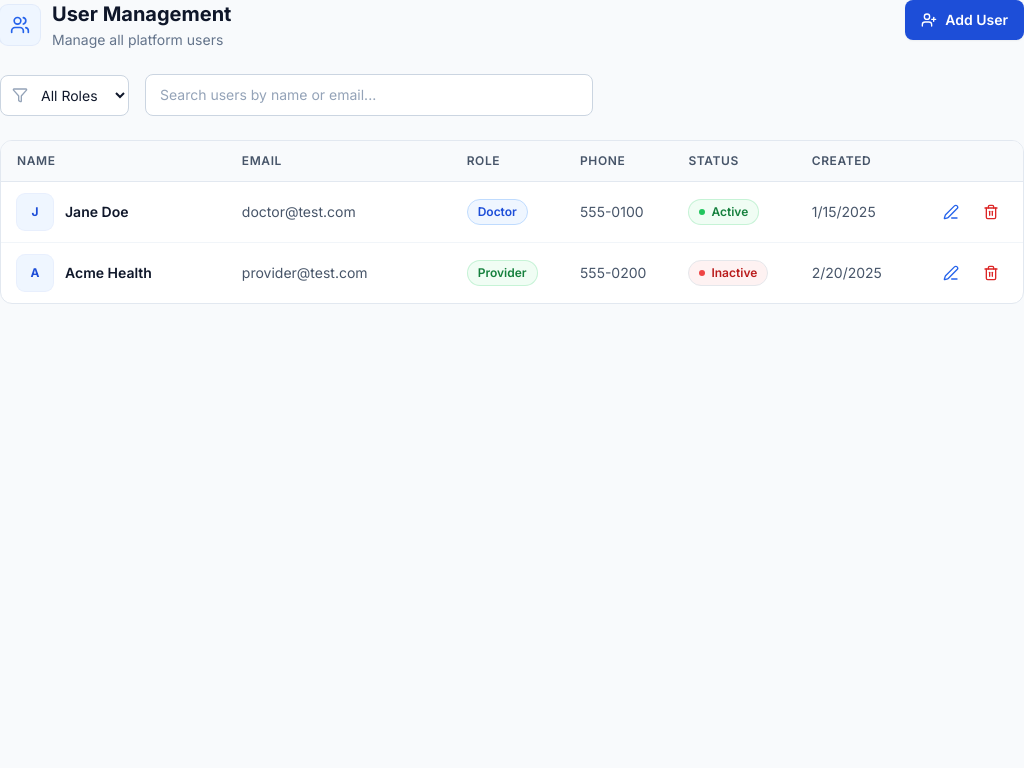
Scenario: UserManagement › opens delete confirmation dialog
Expected: the text "Jane Doe" is shown, [65,202,128,222]
Click the button named "Delete user" in the row of "Jane Doe": (991, 212) [975,196,1007,228]
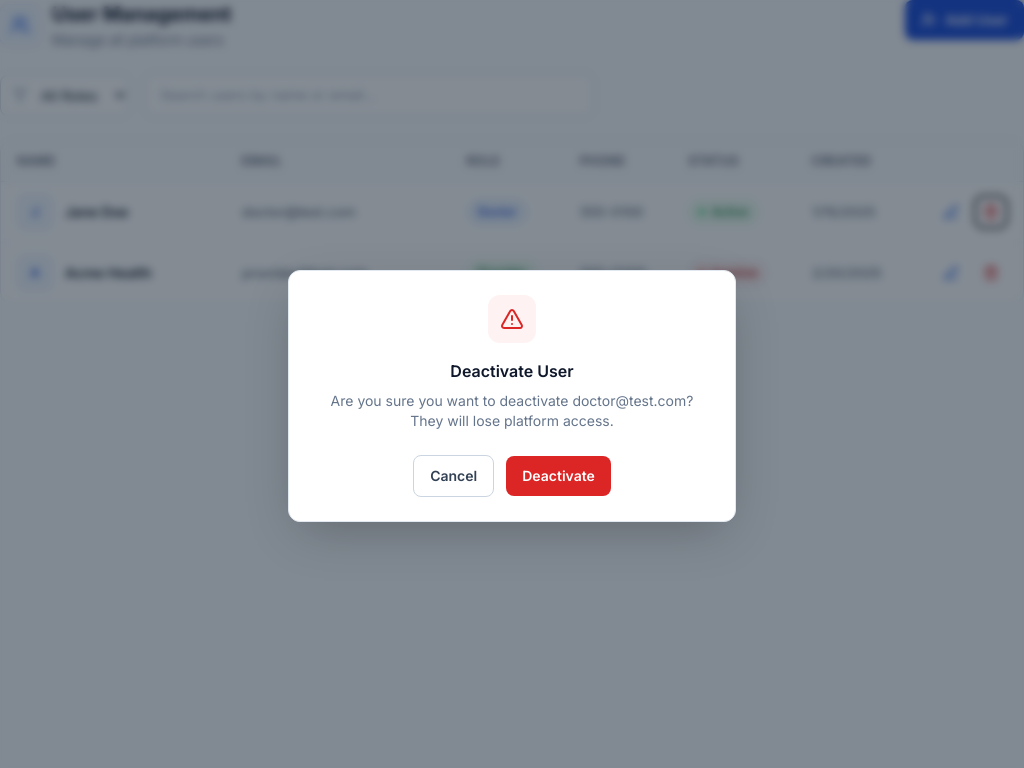
Expected: the heading "Deactivate User" is shown, [450,361,574,381]
